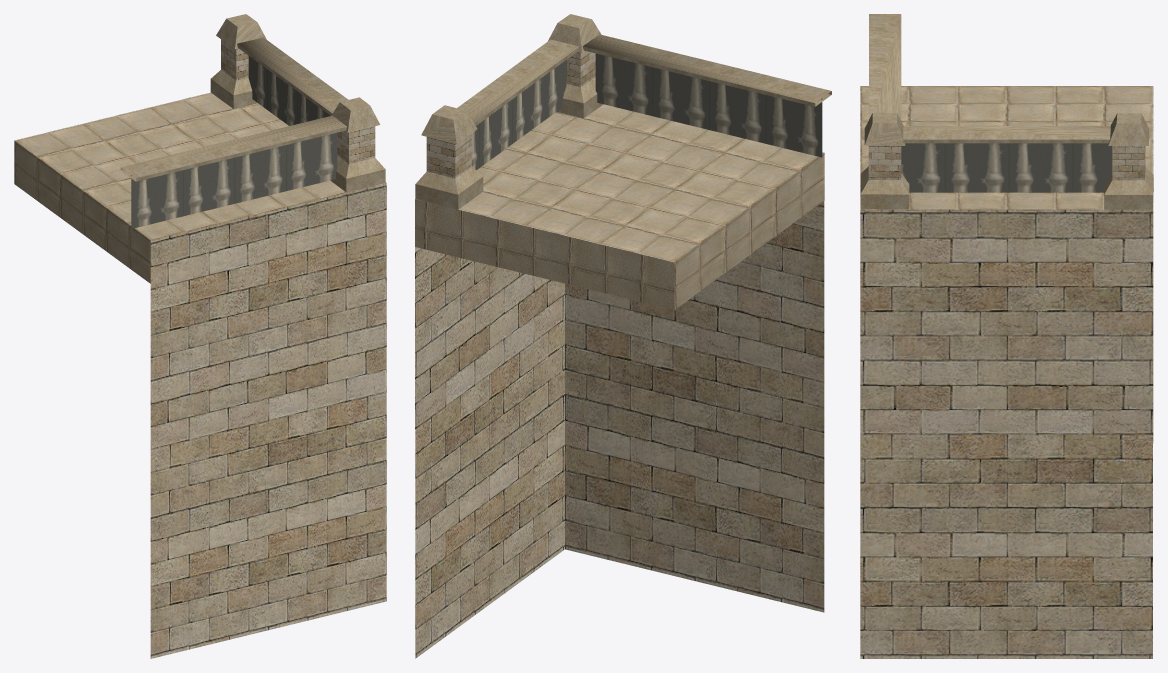
Rendered from thm_nboo_thed_imprv_seawall_corner_s01_l1.fbx.
3 renders of one model, left to right at view 1: azimuth 30°, elevation 25°; view 2: azimuth 150°, elevation 25°; view 3: azimuth 270°, elevation 25°, orthographic. The views are drawn at different scales.
Visible parts, largest first — view 1: mesh_node; view 2: mesh_node; view 3: mesh_node.
Boxes of the visible parts, <box> form: mesh_node: <box>14,14,386,658</box>; mesh_node: <box>415,14,831,658</box>; mesh_node: <box>860,14,1153,658</box>.
Size of the model in its own units: 3.77 by 7.2 by 3.61.
